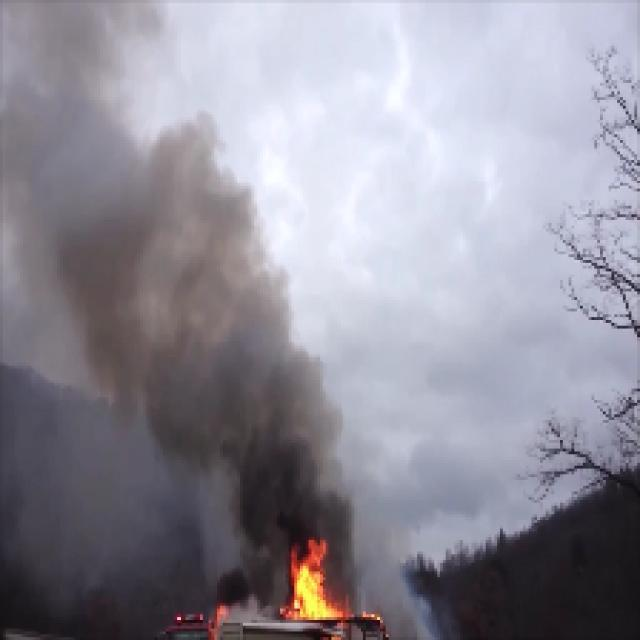Fire: (278, 548, 340, 620)
Smoke: (121, 184, 219, 428), (222, 360, 328, 532)
